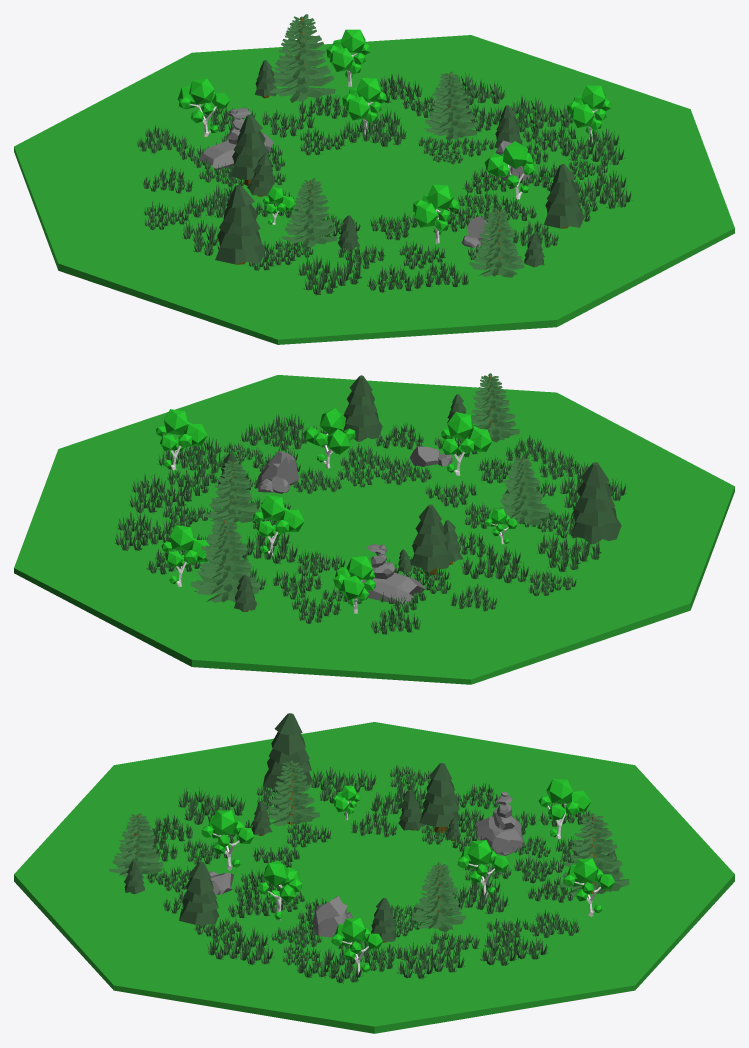
The model's file is DefaultLevel.fbx.
The picture shows the model from 3 angles, top to bottom: view 1: azimuth 30°, elevation 25°; view 2: azimuth 150°, elevation 25°; view 3: azimuth 270°, elevation 25°; orthographic projection.
Parts seen in each view (by area): view 1: Cube.002, TreeBigSpruce.003, TreeSpruce.007, TreeBigSpruce.002, TreeBigSpruce.001, TreeBigSpruce.006, TreeSpruce.006, TreeSpruce.010, TreeBirch.004, TreeBirch.005, TreeBirch.006, TreeBirch.007 (+33 smaller); view 2: Cube.002, TreeBigSpruce.003, TreeSpruce.007, TreeBigSpruce.006, TreeBigSpruce.001, TreeBigSpruce.002, TreeSpruce.010, TreeSpruce.006, TreeBirch.004, TreeBirch.007, TreeBirch.002, TreeBirch.001 (+32 smaller); view 3: Cube.002, TreeBigSpruce.003, TreeBigSpruce.001, TreeBigSpruce.006, TreeSpruce.007, TreeBigSpruce.002, TreeSpruce.010, TreeSpruce.006, TreeBirch.005, TreeBirch.004, TreeBirch.006, TreeBirch.007 (+32 smaller).
Part boxes in pixels (x1,y1,x2,y2): Cube.002: (14,35,734,344); TreeBigSpruce.003: (269,14,335,102); TreeSpruce.007: (215,185,265,264); TreeBigSpruce.002: (469,208,524,277); TreeBigSpruce.001: (424,71,478,140); TreeBigSpruce.006: (281,178,337,247); TreeSpruce.006: (543,164,584,228); TreeSpruce.010: (230,114,271,185); TreeBirch.004: (413,184,459,243); TreeBirch.005: (177,78,229,136); TreeBirch.006: (326,29,370,86); TreeBirch.007: (567,85,611,141); Cube.002: (14,375,734,684); TreeBigSpruce.003: (190,517,260,602); TreeSpruce.007: (571,462,621,544); TreeBigSpruce.006: (495,457,550,525); TreeBigSpruce.001: (204,460,258,523); TreeBigSpruce.002: (471,373,519,442); TreeSpruce.010: (410,504,452,574); TreeSpruce.006: (342,375,382,441); TreeBirch.004: (441,412,491,475); TreeBirch.007: (156,409,207,470); TreeBirch.002: (253,495,304,555); TreeBirch.001: (303,408,355,468); Cube.002: (14,722,734,1033); TreeBigSpruce.003: (560,813,629,896); TreeBigSpruce.001: (412,862,466,931); TreeBigSpruce.006: (267,760,319,826); TreeSpruce.007: (263,713,312,790); TreeBigSpruce.002: (109,813,163,879); TreeSpruce.010: (419,763,460,833); TreeSpruce.006: (179,861,219,925); TreeBirch.005: (538,779,590,838); TreeBirch.004: (201,810,253,870); TreeBirch.006: (563,858,614,916); TreeBirch.007: (331,917,382,974).
Size of the model in its own units: 25155 by 4389 by 25155.
